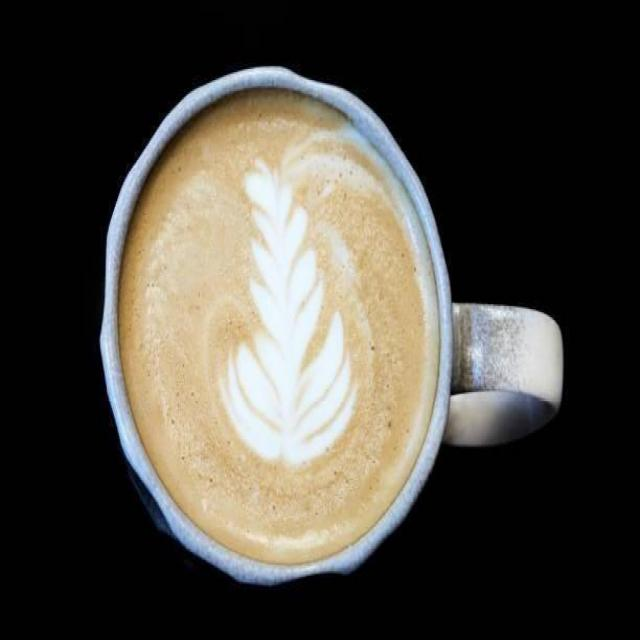cup-handle: (98, 62, 567, 602)
